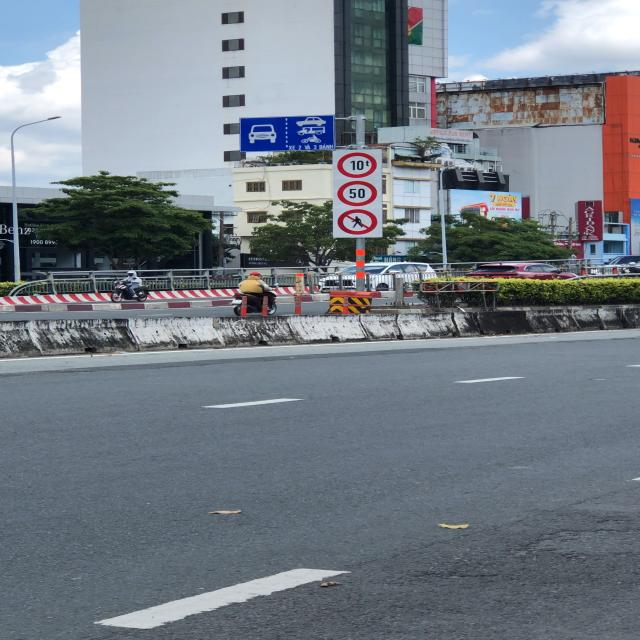Bien bao cam nguoi di bo: (336, 206, 381, 236)
Bien bao toc do toi da cho phep: (335, 180, 380, 206)
